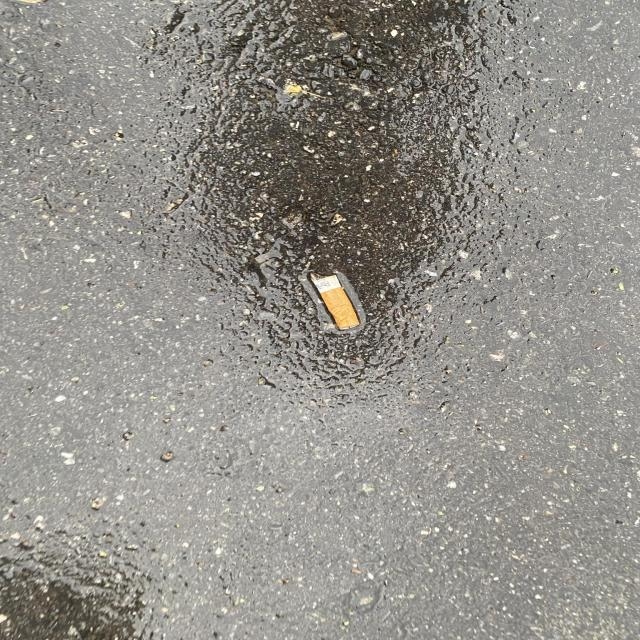other waste: (307, 271, 360, 330)
